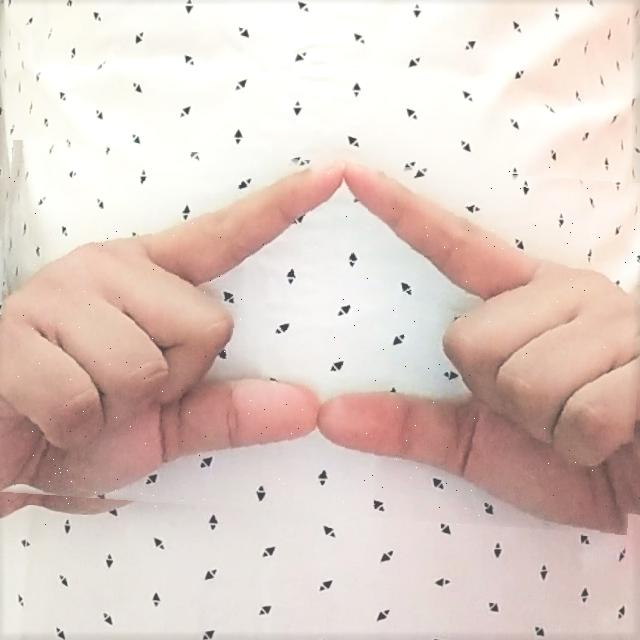A: (0, 165, 640, 535)
